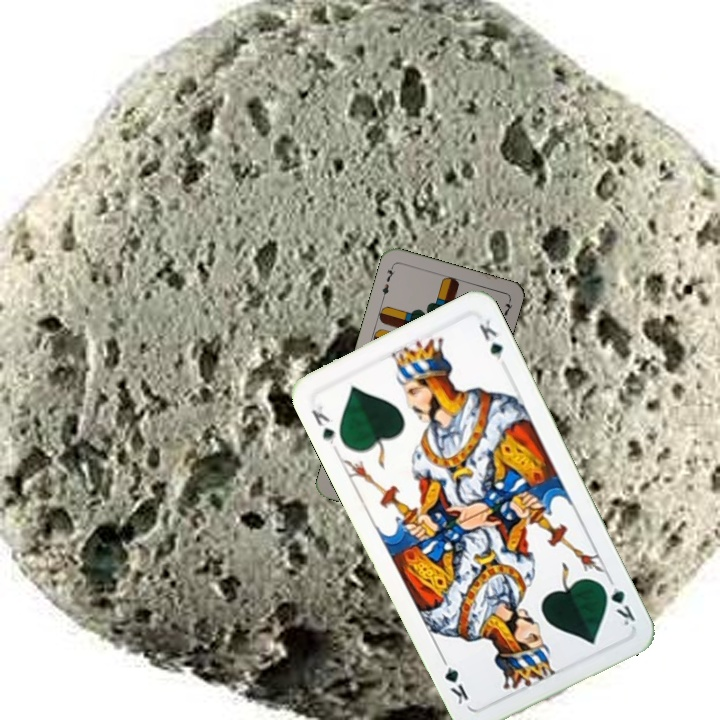E7: (378, 262, 397, 301)
GK: (597, 573, 638, 629), (307, 401, 338, 447)
